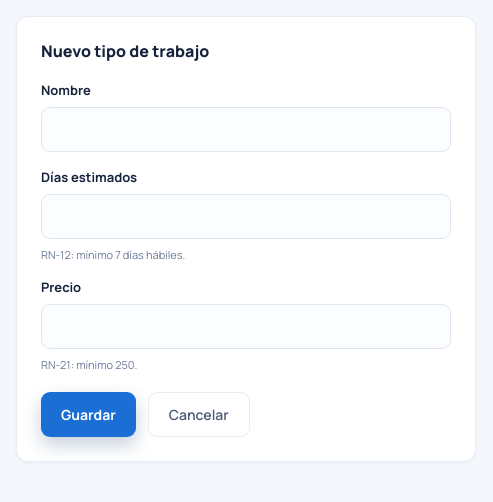
TipoTrabajoFormulario — modo alta › RN-12: días insuficientes muestra el mensaje del backend bajo el campo
This screenshot has width=493, height=502.
Type "X" into the field labelled "Nombre". click: {"x": 246, "y": 130}
box: [41,107,451,152]
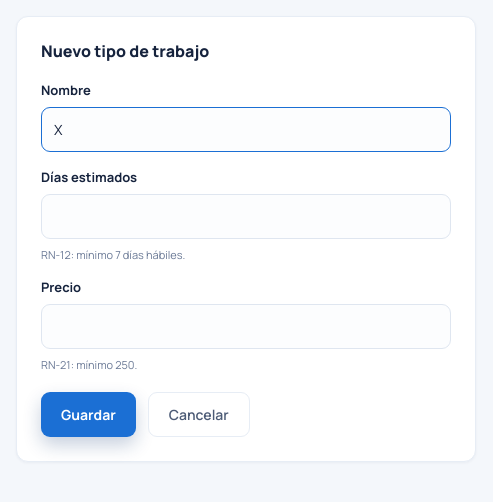
Type "6" into the number field labelled "Días estimados". click: {"x": 246, "y": 216}
box: [41,194,451,239]
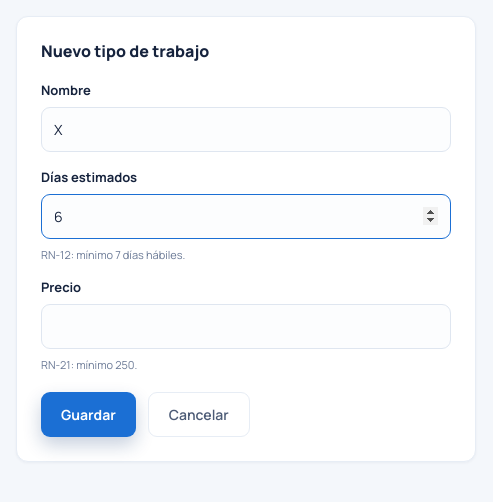
Type "250" into the number field labelled "Precio". click: {"x": 246, "y": 326}
box: [41,304,451,349]
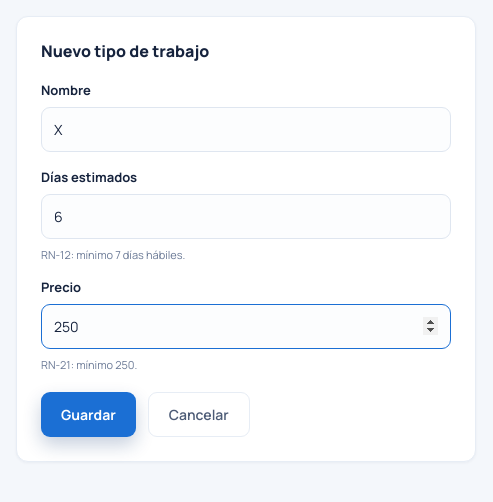
Click the button "Guardar". click: {"x": 88, "y": 414}
box: [41,392,136,437]
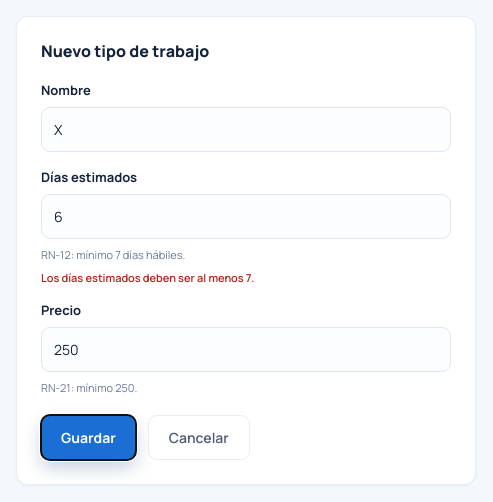
Result: the text "Los días estimados deben ser al menos 7." is shown at [41,270,254,285]
